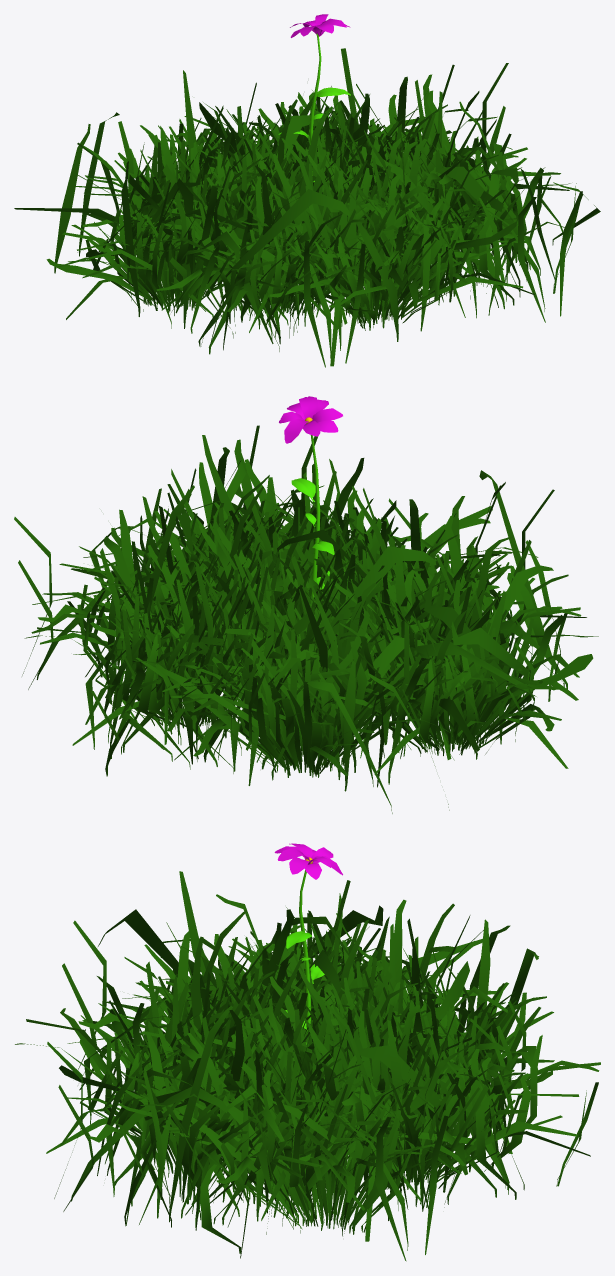
Rendered from Player.fbx.
The picture shows the model from 3 angles, top to bottom: view 1: azimuth 30°, elevation 25°; view 2: azimuth 150°, elevation 25°; view 3: azimuth 270°, elevation 25°; orthographic projection. The views are drawn at different scales.
Parts seen in each view (by area): view 1: Player; view 2: Player; view 3: Player.
Boxes of the visible parts, <box> form: Player: <box>14,14,600,367</box>; Player: <box>14,396,598,813</box>; Player: <box>15,843,600,1261</box>.
Size of the model in its own units: 173 by 91.08 by 161.
